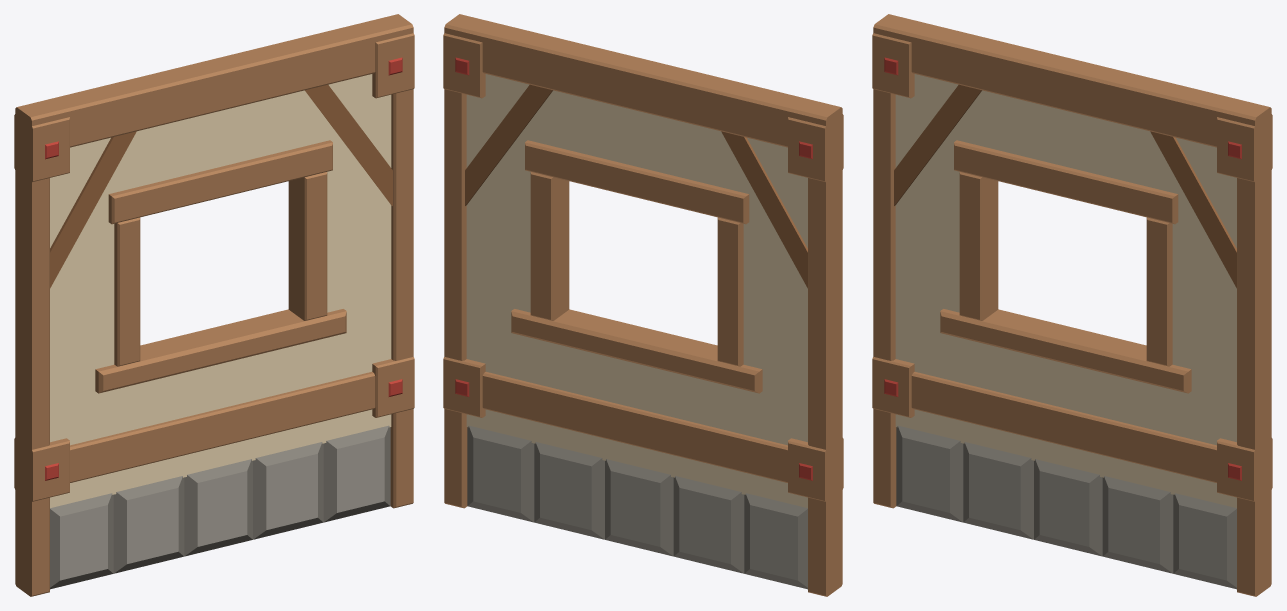
The model's file is FMS_Workshop_MOD_04.fbx.
3 views of the same model, side by side, from view 1: azimuth 30°, elevation 25°; view 2: azimuth 150°, elevation 25°; view 3: azimuth 330°, elevation 25° (orthographic).
Visible parts, largest first — view 1: FMS_Workshop_MOD_04_Body; view 2: FMS_Workshop_MOD_04_Body; view 3: FMS_Workshop_MOD_04_Body.
Part boxes in pixels (box(x1,y1,x2,y2)): FMS_Workshop_MOD_04_Body: box(14, 14, 414, 596); FMS_Workshop_MOD_04_Body: box(443, 14, 843, 596); FMS_Workshop_MOD_04_Body: box(872, 14, 1272, 596).
Size of the model in its own units: 2 by 2.4 by 0.18.
1 material, 1 textured.
